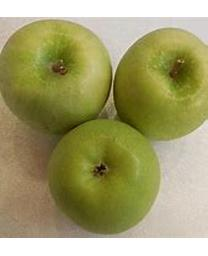apple: (48, 118, 160, 234), (0, 20, 112, 134), (113, 28, 207, 139)
